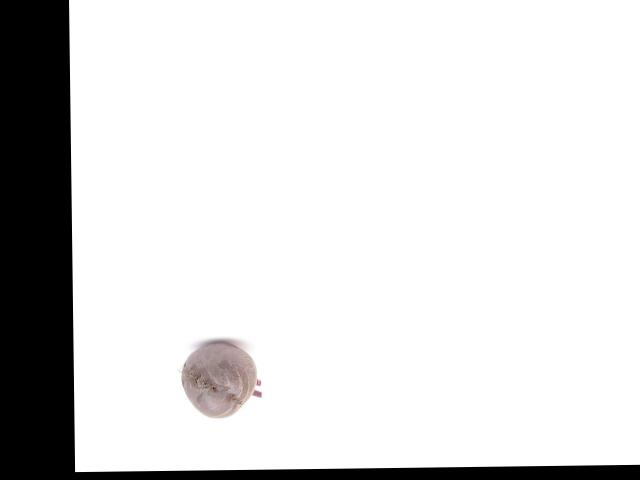beet: (180, 340, 261, 419)
